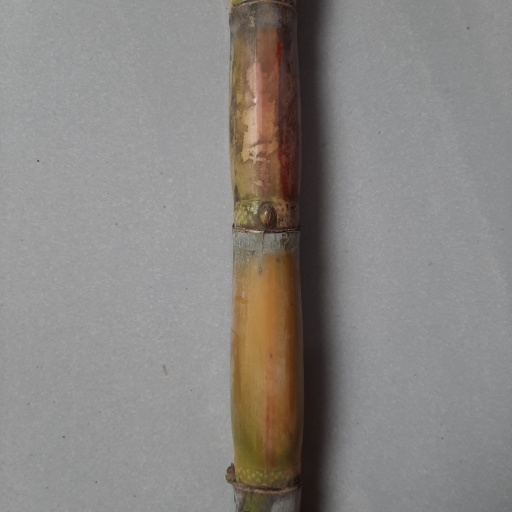Bud: (257, 204, 276, 230)
